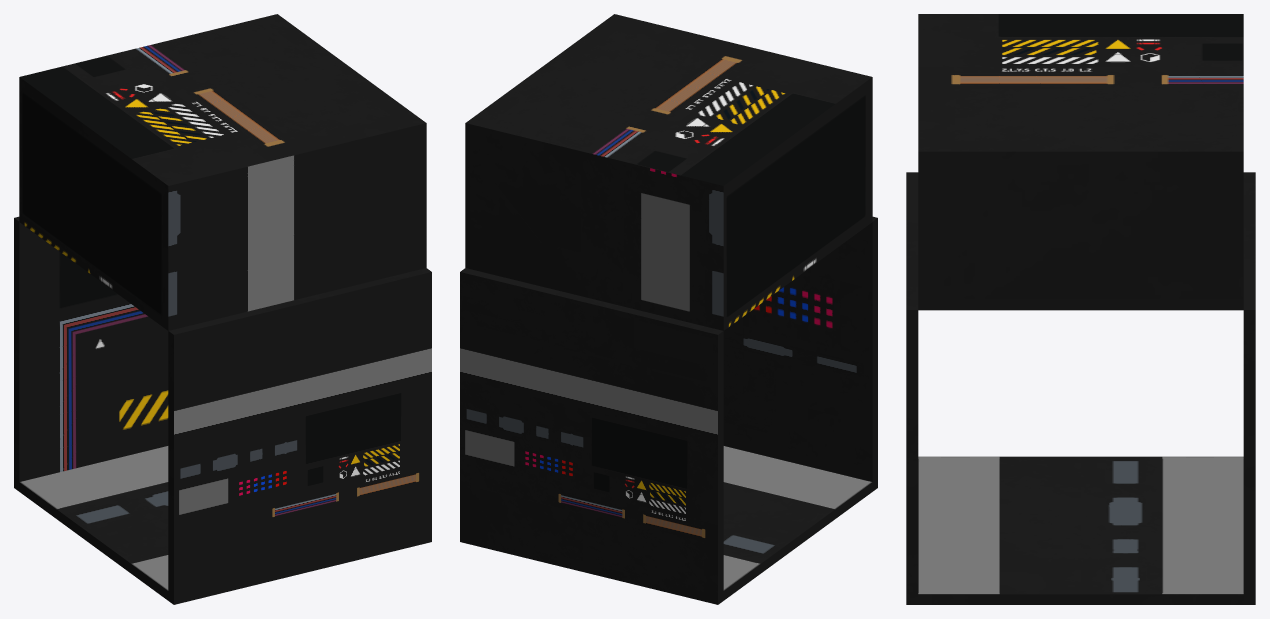
Rendered from Walled Double tile.fbx.
3 renders of one model, left to right at view 1: azimuth 30°, elevation 25°; view 2: azimuth 150°, elevation 25°; view 3: azimuth 270°, elevation 25°, orthographic. The views are drawn at different scales.
Parts seen in each view (by area): view 1: Plane.003, Plane.002, Plane.001, Plane; view 2: Plane.003, Plane.001, Plane.002, Plane; view 3: Plane.003, Plane, Plane.001, Plane.002.
Part boxes in pixels (x1,y1,x2,y2): Plane.003: [19, 14, 426, 330]; Plane.002: [168, 268, 431, 604]; Plane.001: [14, 216, 168, 491]; Plane: [19, 446, 168, 600]; Plane.003: [465, 14, 872, 330]; Plane.001: [460, 268, 723, 604]; Plane.002: [723, 216, 877, 491]; Plane: [723, 446, 872, 600]; Plane.003: [918, 14, 1243, 310]; Plane: [918, 456, 1243, 604]; Plane.001: [1243, 172, 1255, 604]; Plane.002: [906, 172, 918, 604].
Size of the model in its own units: 200 by 307 by 215.
